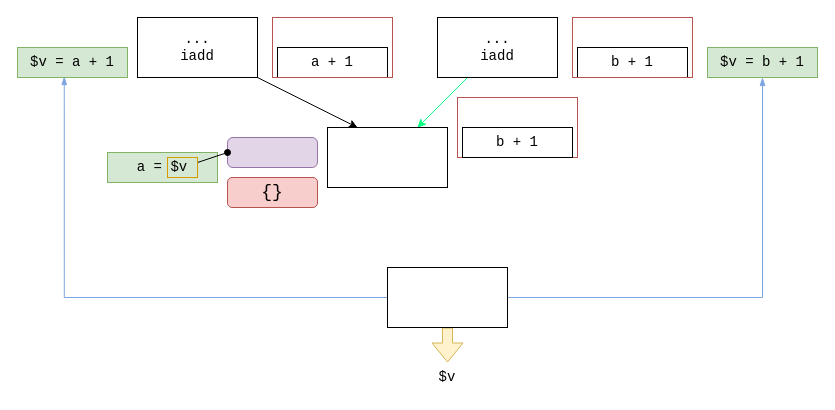
The diagram is 835 pixels wide and 410 high, and some of its shapes have lost their labels. Here are the shapes that lost their labels. From the top down, the centre of each, then its label:
pixel 272 152: { $v }
pixel 387 157: istore_1
pixel 447 297: merge(a + 1, b + 1)
